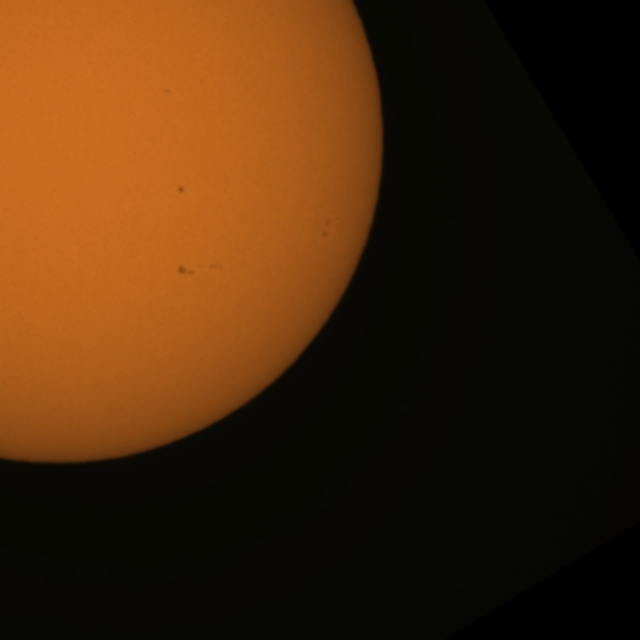sunspot: (176, 261, 223, 278), (320, 214, 341, 240), (176, 184, 186, 195), (162, 86, 172, 96), (197, 77, 205, 87)
